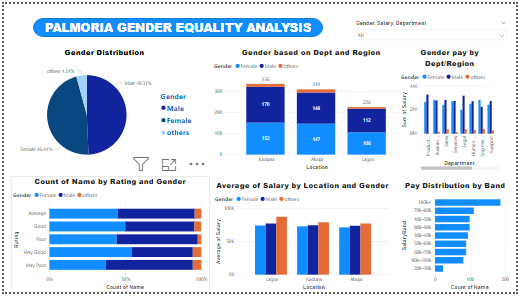

The dashboard page shown, as its layout file describes it:
{"tool":"powerbi","page":{"name":"Page 1","canvas":[1280,720],"ordinal":0},"visuals":[{"type":"pieChart","title":"Gender Distribution","fields":{"Category":["Palmoria Group emp-data.Gender"],"Y":["CountNonNull(Palmoria Group emp-data.Gender)"]},"box":[18.5,107.5,467,312.4],"z":0},{"type":"columnChart","title":"Gender based on Dept and Region","fields":{"Category":["Palmoria Group emp-data.Location"],"Series":["Palmoria Group emp-data.Gender"],"Y":["CountNonNull(Palmoria Group emp-data.Name)"]},"box":[520.7,107.5,495.5,312.4],"z":1000},{"type":"hundredPercentStackedBarChart","fields":{"Category":["Palmoria Group emp-data.Rating"],"Series":["Palmoria Group emp-data.Gender"],"Y":["CountNonNull(Palmoria Group emp-data.Name)"]},"box":[18.5,430,495.5,290.6],"z":2000},{"type":"clusteredColumnChart","fields":{"Series":["Palmoria Group emp-data.Gender"],"Y":["Avg(Palmoria Group emp-data.Salary)"],"Category":["Palmoria Group emp-data.Location"]},"box":[521.7,440,446.7,280],"z":3000},{"type":"clusteredColumnChart","title":"Gender pay by Dept/Region","fields":{"Y":["Sum(Palmoria Group emp-data.Salary)"],"Series":["Palmoria Group emp-data.Gender"],"Category":["Palmoria Group emp-data.Department"]},"box":[988.3,106.7,253.3,311.7],"z":4000},{"type":"barChart","title":"Pay Distribution by Band","fields":{"Category":["Palmoria Group emp-data.SalaryBand"],"Y":["CountNonNull(Palmoria Group emp-data.Name)"]},"box":[988.3,440,280,280],"z":5000},{"type":"shape","box":[72.5,35,725,47.5],"z":6000},{"type":"slicer","fields":{"Values":["Palmoria Group emp-data.Gender","Palmoria Group emp-data.Salary","Palmoria Group emp-data.Department"]},"box":[867.5,35,400,60],"z":6001}]}

Visuals, with their boxes in screenshot pixels (x1, y1, x2, y2), scaled from the page's 1280x720 canvas onto the 521x296 screenshot:
"Gender Distribution" pieChart: 8,44,198,173
"Gender based on Dept and Region" columnChart: 212,44,414,173
hundredPercentStackedBarChart - Palmoria Group emp-data.Rating x Palmoria Group emp-data.Gender: 8,177,209,295
clusteredColumnChart - Palmoria Group emp-data.Gender x Avg(Palmoria Group emp-data.Salary): 212,181,394,295
"Gender pay by Dept/Region" clusteredColumnChart: 402,44,505,172
"Pay Distribution by Band" barChart: 402,181,516,295
shape: 30,14,325,34
slicer - Palmoria Group emp-data.Gender x Palmoria Group emp-data.Salary: 353,14,516,39
